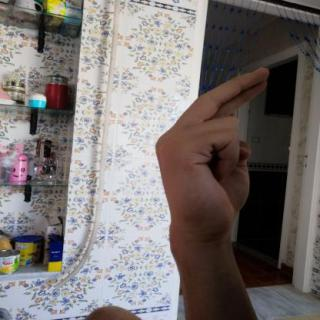ZAY: (144, 58, 281, 250)
